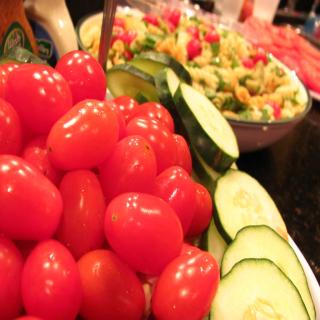tomato: (105, 190, 182, 279), (0, 155, 65, 243), (44, 98, 119, 168), (152, 246, 222, 320), (19, 236, 80, 320), (54, 168, 106, 264), (4, 62, 74, 133), (77, 248, 144, 320), (99, 132, 157, 202), (154, 165, 198, 237), (55, 48, 107, 106), (125, 121, 178, 176), (18, 134, 67, 186), (0, 238, 27, 320), (187, 181, 214, 240), (0, 97, 22, 157), (136, 100, 173, 133), (0, 62, 24, 101), (114, 94, 140, 128), (174, 133, 193, 177)
